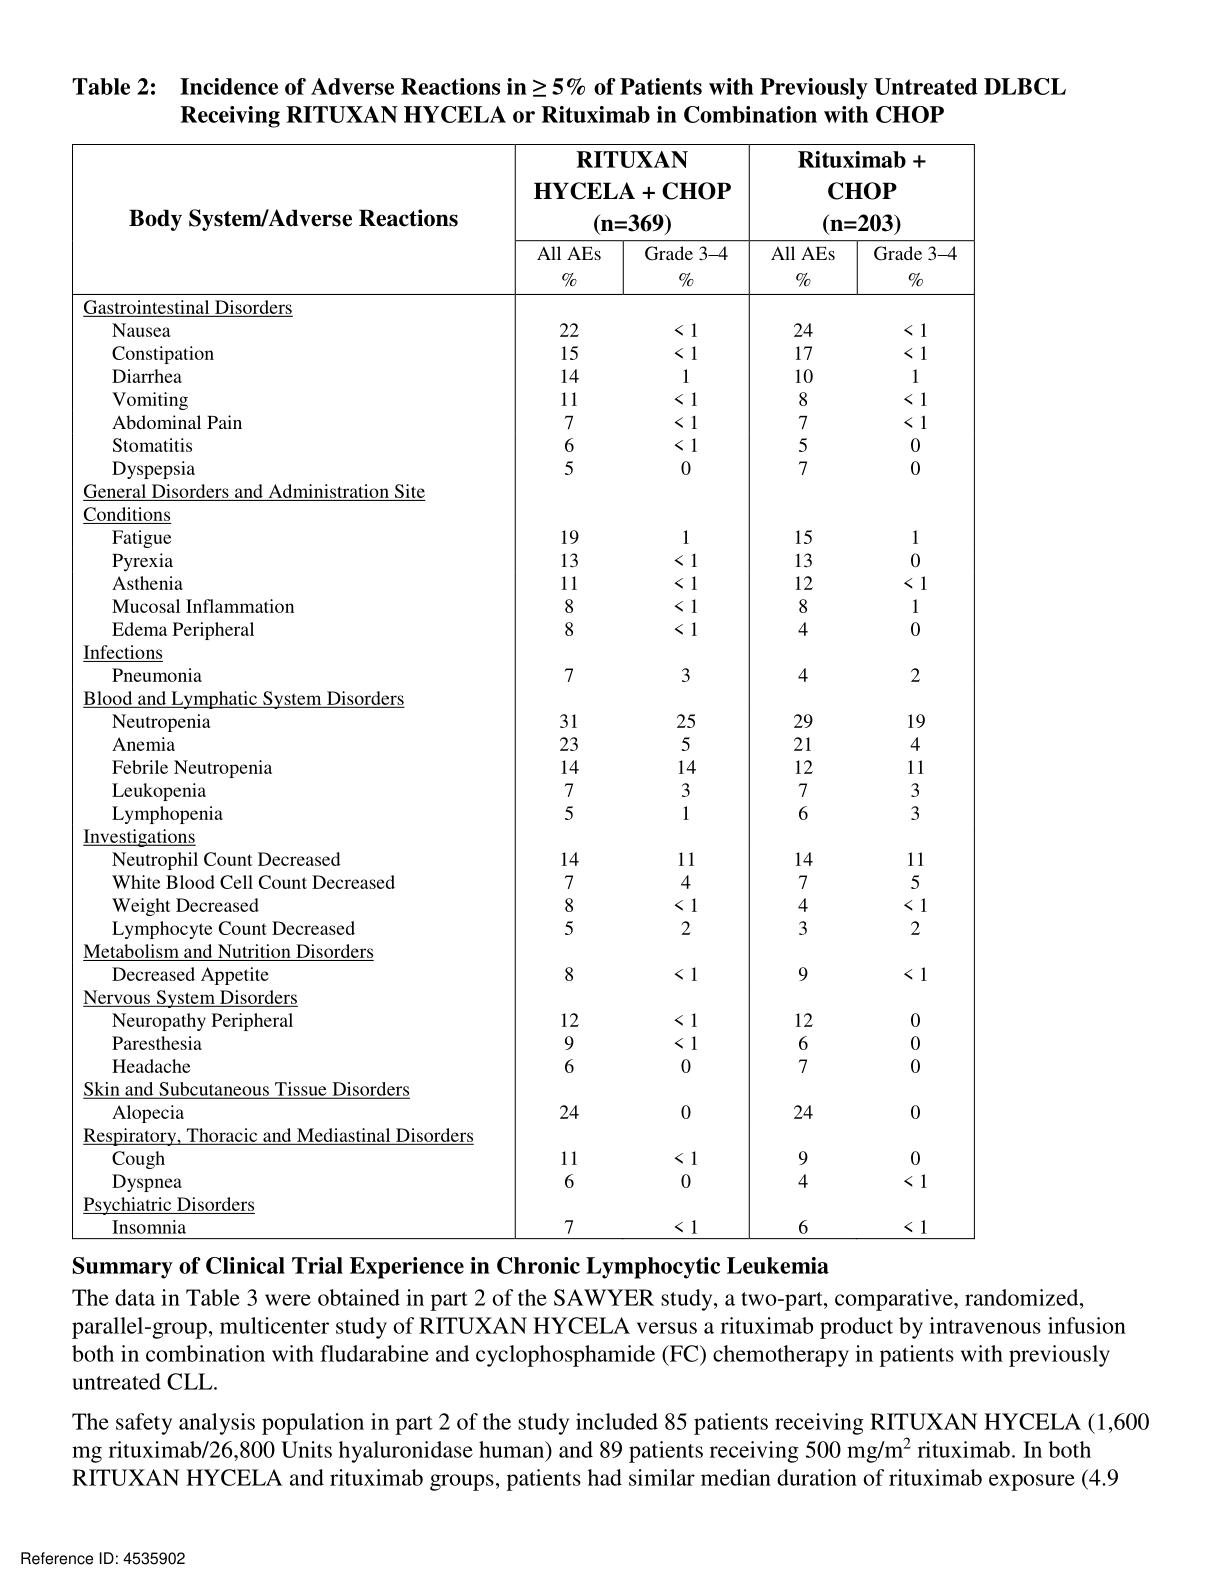partial_lined_merged_cells: (69, 143, 976, 1242)
